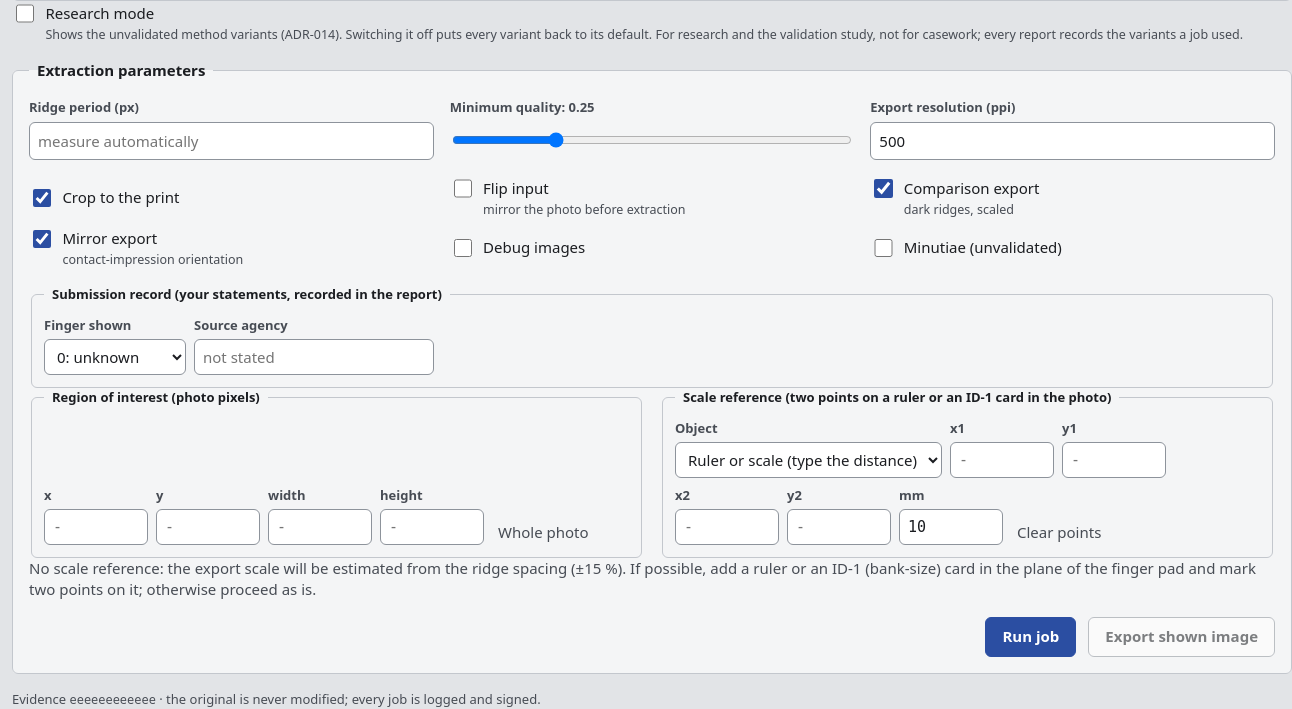
Test: where the print was extracted › says nothing is recorded for a report made before Ridge recorded the area
(page scrolled)
Click the button "Run job": (1031, 637) 985,617 -> 1076,657
(page scrolled)
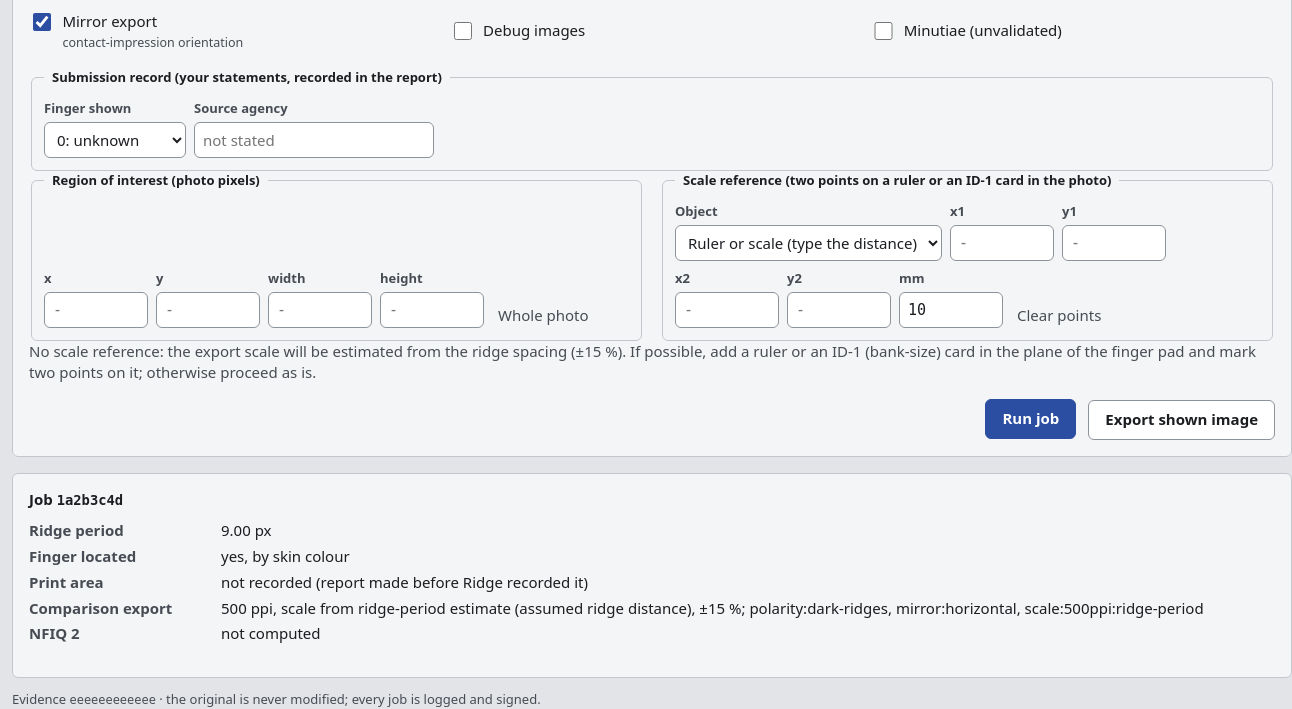
Check: the heading "Job 1a2b3c4d" is shown, box 29,489 -> 356,509
Check: the text "not recorded (report made before Ridge recorded it)" is shown, box 221,572 -> 588,592
